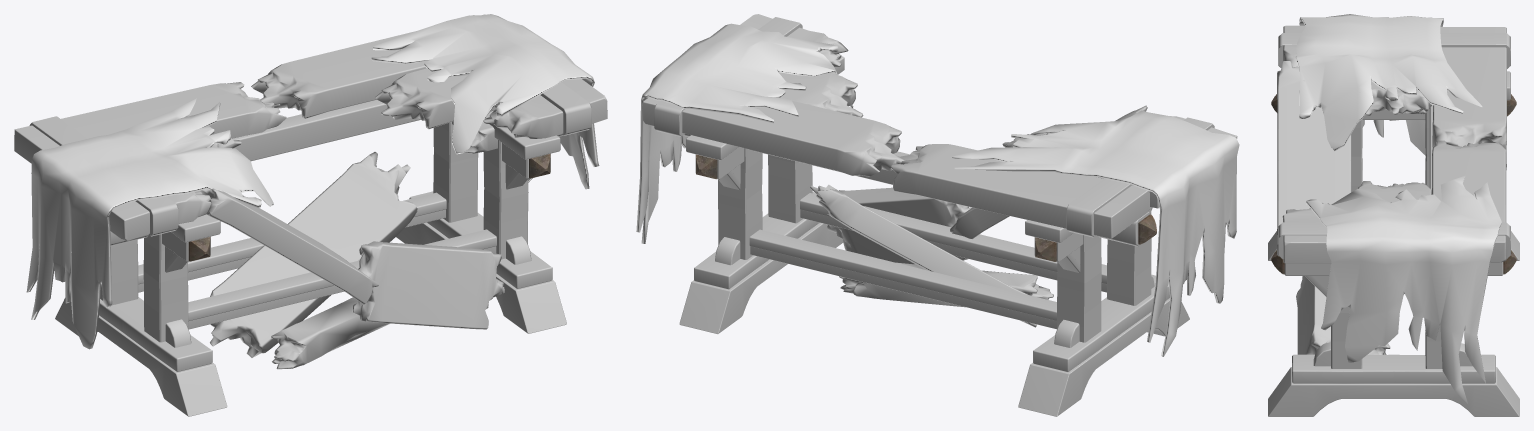
The picture shows the model from 3 angles, left to right: view 1: azimuth 30°, elevation 25°; view 2: azimuth 150°, elevation 25°; view 3: azimuth 270°, elevation 25°; orthographic projection. The views are drawn at different scales.
Visible parts, largest first — view 1: SM_DR_Table_B_02_01_LOD0; view 2: SM_DR_Table_B_02_01_LOD0; view 3: SM_DR_Table_B_02_01_LOD0.
Boxes of the visible parts, left/top/right/bottom form: SM_DR_Table_B_02_01_LOD0: left=14, top=14, right=607, bottom=416; SM_DR_Table_B_02_01_LOD0: left=636, top=14, right=1239, bottom=416; SM_DR_Table_B_02_01_LOD0: left=1268, top=14, right=1519, bottom=416.
Bounding box in the file's own units: 2.92 × 1.23 × 1.3.
